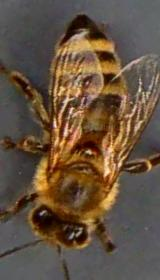varroa_mite: (71, 132, 108, 166)
